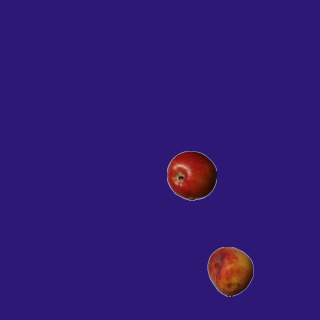Apple Braeburn: (166, 150, 216, 200)
Peach: (205, 246, 255, 296)
